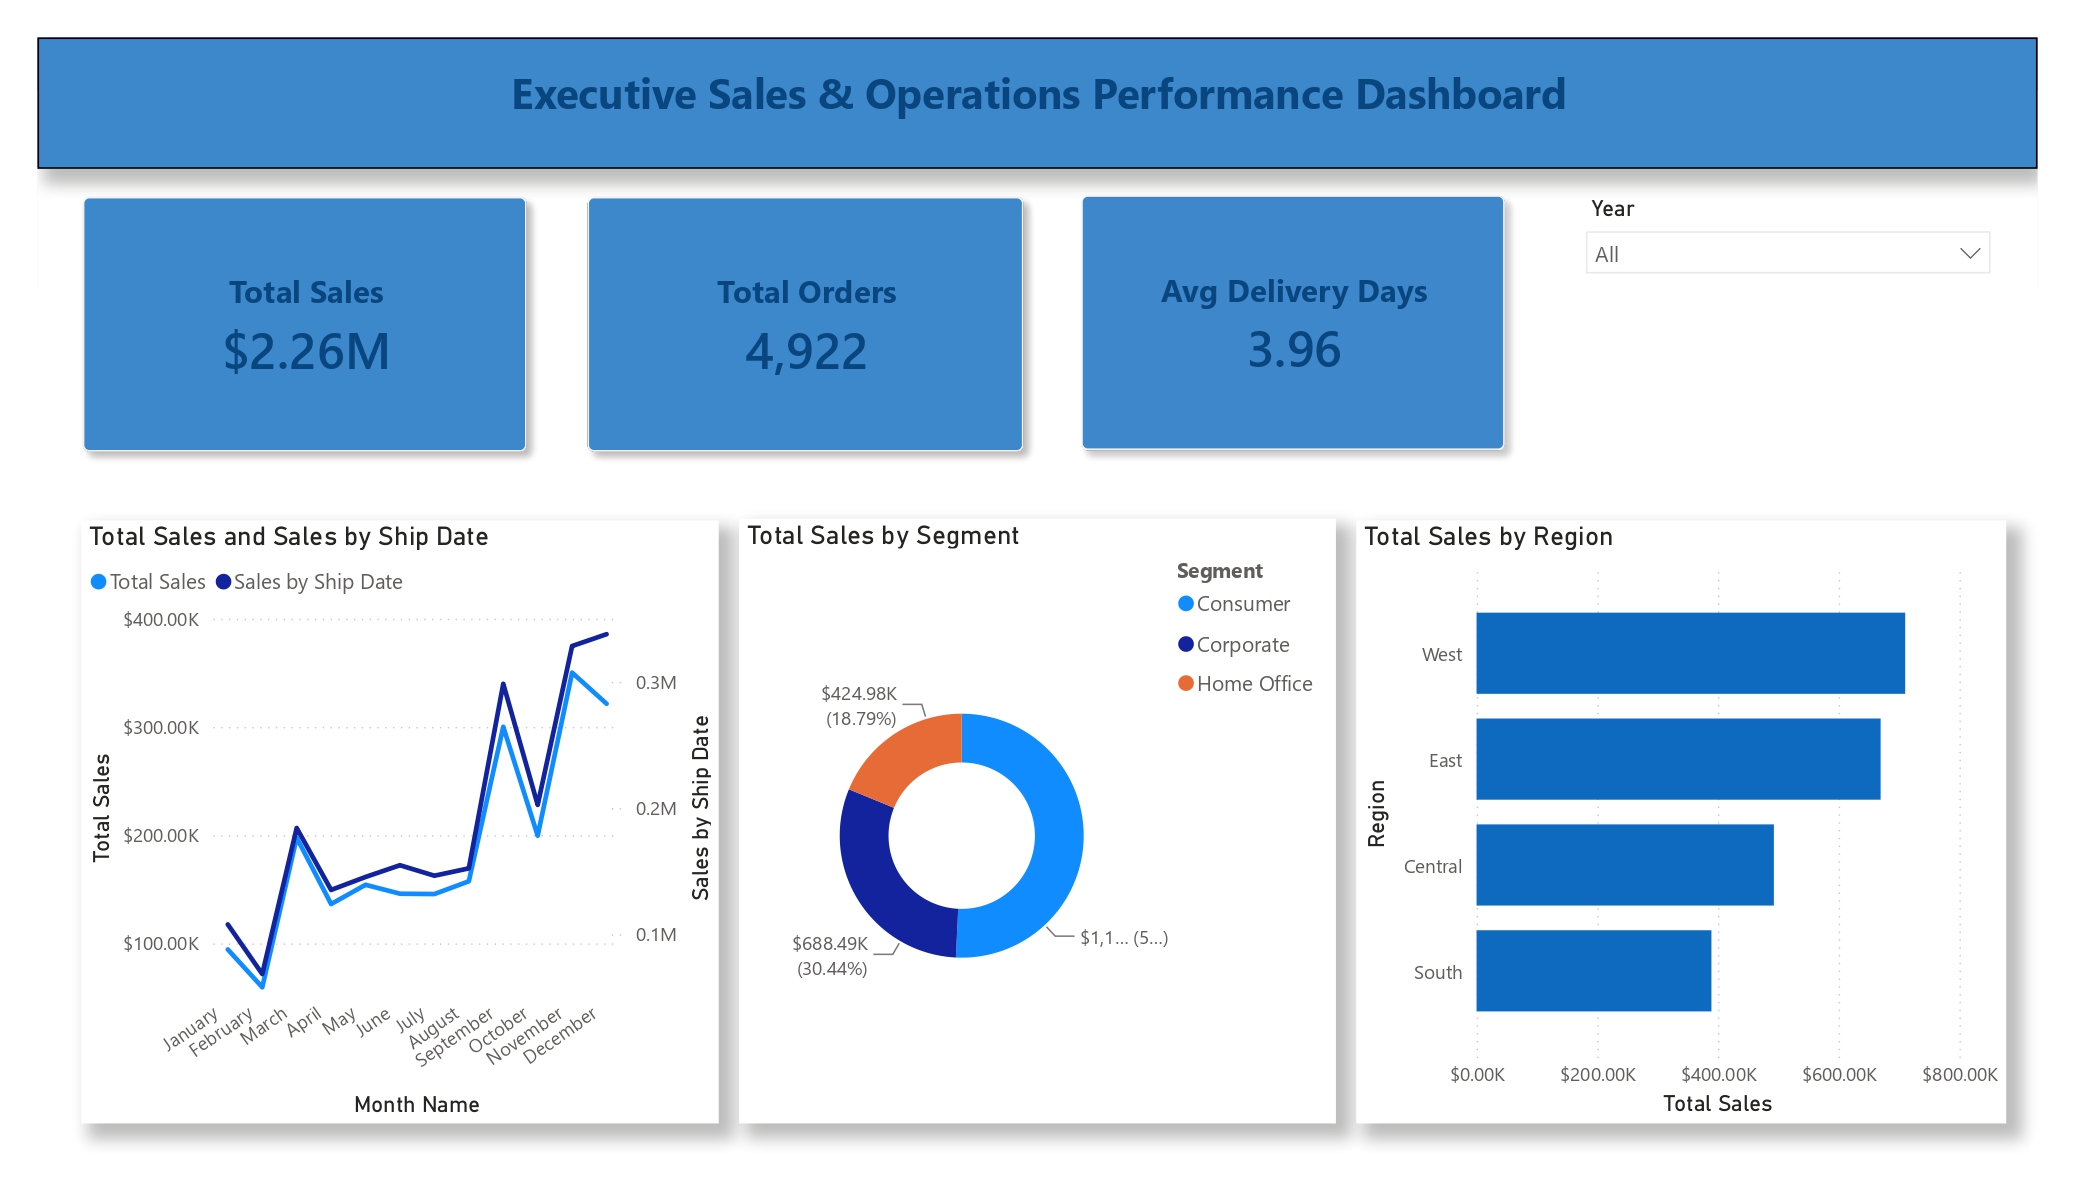

What the dashboard file says about the page in this screenshot:
{"tool":"powerbi","page":{"name":"Page 1","canvas":[1280,720],"ordinal":0},"visuals":[{"type":"cardVisual","fields":{"Data":["_Measures.Total Sales"]},"box":[0,72.9,341.7,220.8],"z":0},{"type":"slicer","fields":{"Values":["Dim_Calendar.Year"]},"box":[981.3,95.5,278.5,87.4],"z":1000},{"type":"lineChart","title":"Total Sales and Sales by Ship Date","fields":{"Y":["_Measures.Total Sales"],"Category":["Dim_Calendar.Month Name"],"Y2":["_Measures.Sales by Ship Date"]},"box":[27.5,309.3,408,385.4],"z":2000},{"type":"donutChart","fields":{"Category":["Dim_Customers.Segment"],"Y":["_Measures.Total Sales"]},"box":[448.5,307.7,382.1,387],"z":3000},{"type":"cardVisual","fields":{"Data":["_Measures.Total Orders"]},"box":[322.9,72.9,337.5,220.8],"z":4000},{"type":"clusteredBarChart","fields":{"Y":["_Measures.Total Sales"],"Category":["Dim_Locations.Region"]},"box":[843.6,309.3,416.1,385.4],"z":5000},{"type":"cardVisual","fields":{"Data":["_Measures.Avg Delivery Days"]},"box":[639.5,72.4,328.9,221.1],"z":6000},{"type":"textbox","title":"Executive Sales & Operations Performance Dashboard","box":[0,0,1279.7,84.4],"z":7000}]}

Visuals, with their boxes on the page's 1280x720 design canvas (x1, y1, x2, y2). These are canvas units, not pixel positions in the 2075x1200 screenshot, which may show the page scaled, cropped or inside an application window:
cardVisual - _Measures.Total Sales: [0,73,342,294]
slicer - Dim_Calendar.Year: [981,96,1260,183]
"Total Sales and Sales by Ship Date" lineChart: [28,309,436,695]
donutChart - Dim_Customers.Segment x _Measures.Total Sales: [448,308,831,695]
cardVisual - _Measures.Total Orders: [323,73,660,294]
clusteredBarChart - _Measures.Total Sales x Dim_Locations.Region: [844,309,1260,695]
cardVisual - _Measures.Avg Delivery Days: [640,72,968,294]
"Executive Sales & Operations Performance Dashboard" textbox: [0,0,1280,84]
